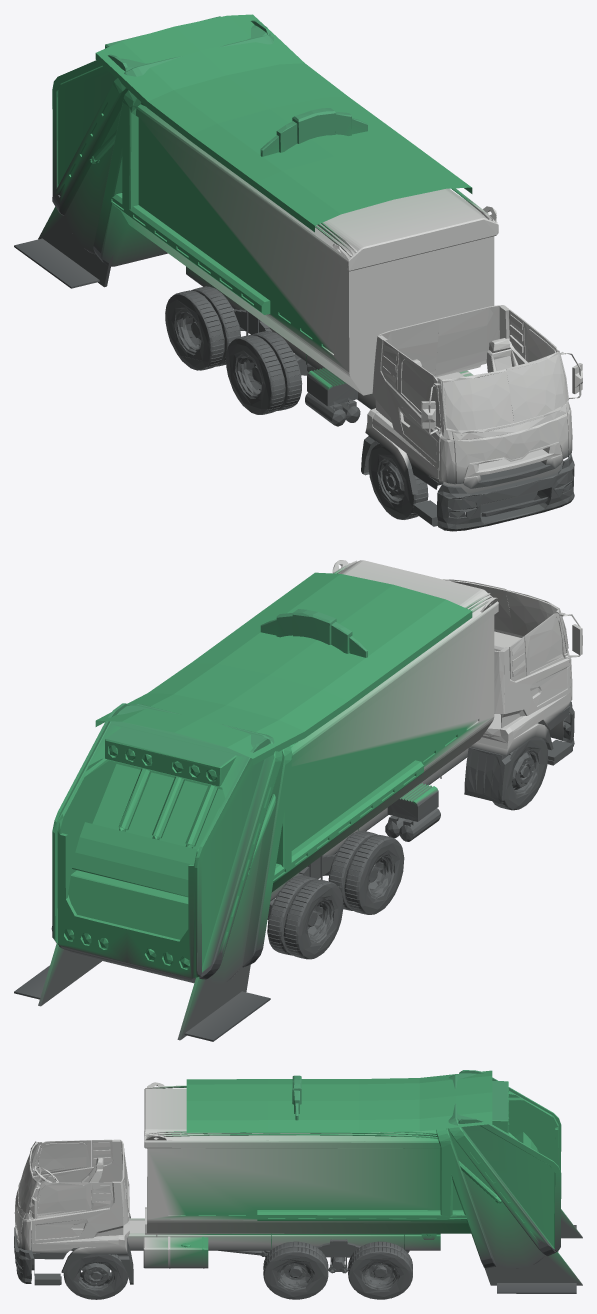
The model's file is grabcad-garbage-truck-optimized.glb.
3 renders of one model, top to bottom at view 1: azimuth 30°, elevation 25°; view 2: azimuth 150°, elevation 25°; view 3: azimuth 270°, elevation 25°, orthographic. The views are drawn at different scales.
Parts seen in each view (by area): view 1: garbage-truck-with-covered-green-body; view 2: garbage-truck-with-covered-green-body; view 3: garbage-truck-with-covered-green-body.
Boxes of the visible parts, x1,y1,x2,y2 form: garbage-truck-with-covered-green-body: (14,14,582,531); garbage-truck-with-covered-green-body: (14,560,582,1041); garbage-truck-with-covered-green-body: (14,1070,582,1299).
Size of the model in its own units: 2.65 by 3.6 by 9.4.
